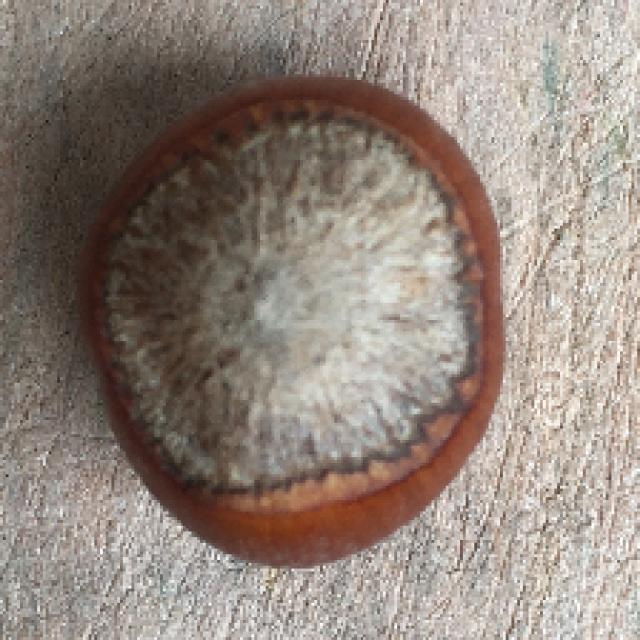qualityHazelnut: (72, 75, 510, 571)
